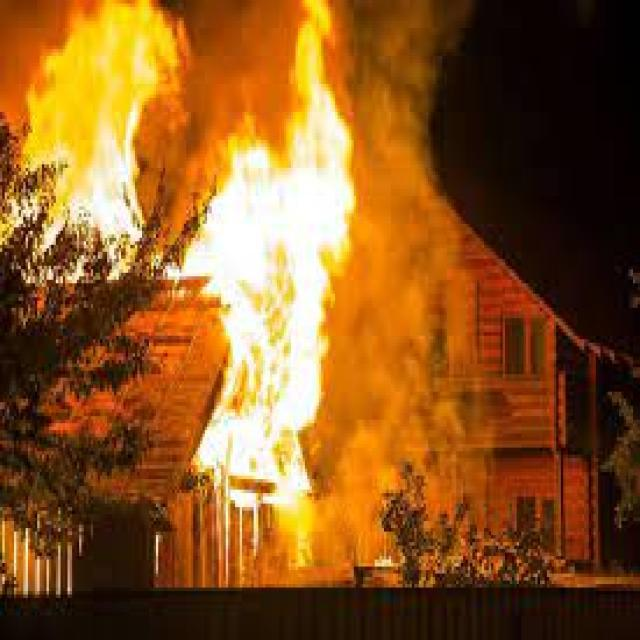Fire: (219, 110, 361, 512), (33, 10, 171, 293)
Smoke: (348, 0, 496, 551), (151, 0, 376, 220)
